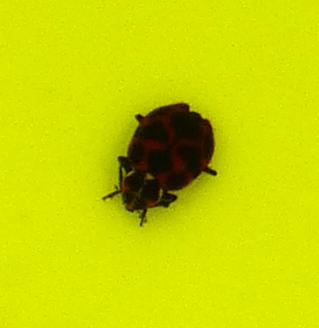Coleoptera: (100, 100, 219, 228)
